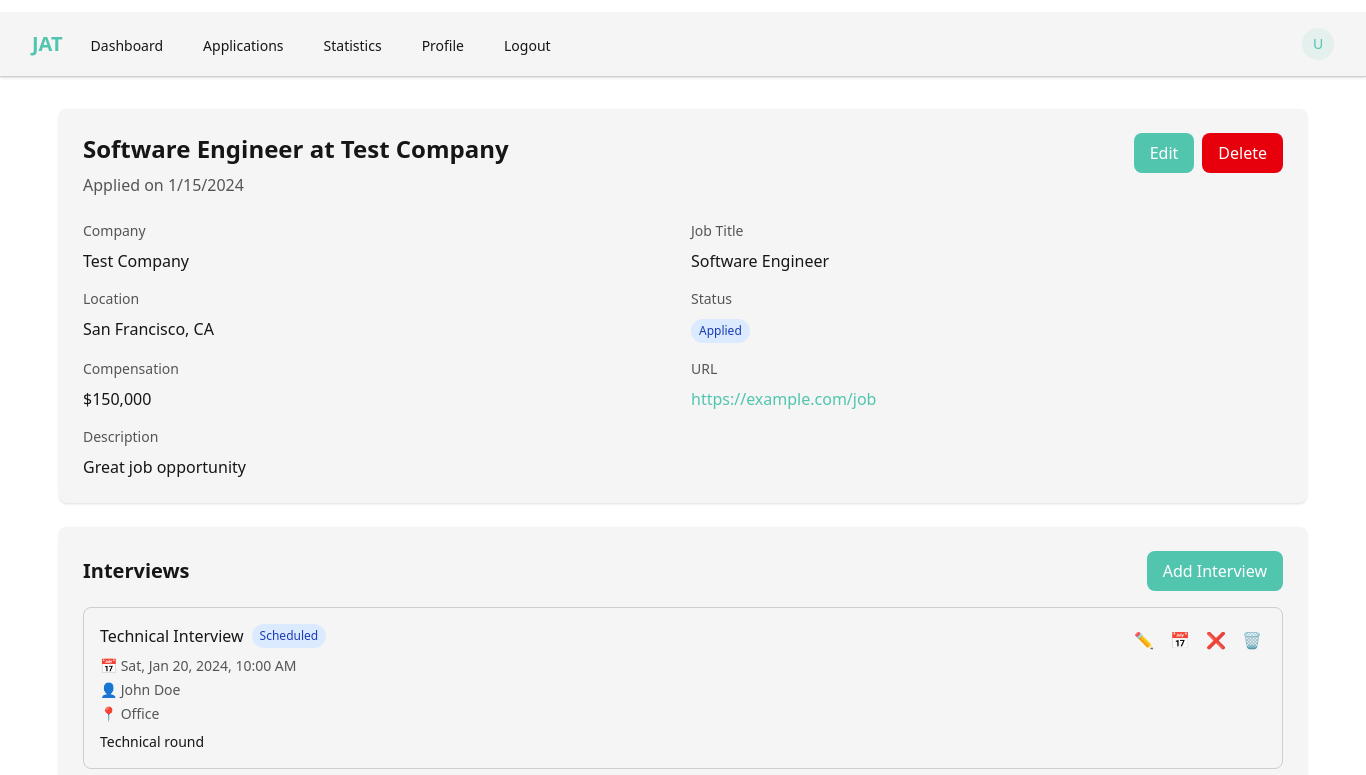
Test: ApplicationDetail Component › Edit Application › should enable edit mode when edit button is clicked
Expected: the text "Software Engineer" is shown, x1=691 y1=250 x2=829 y2=272
Click the button "Edit": [1164, 153] box x1=1134 y1=133 x2=1194 y2=173
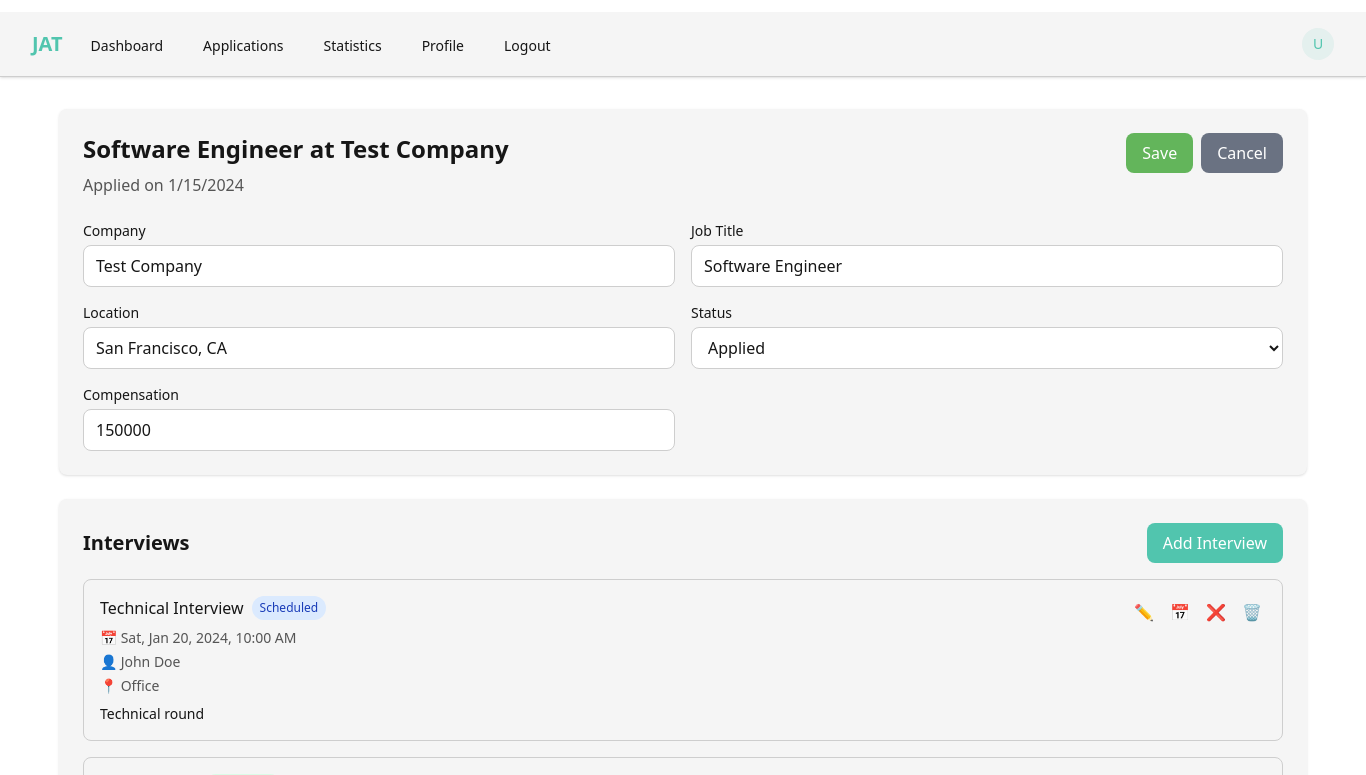
Expected: the field showing "Software Engineer" below "Job Title" is shown, x1=691 y1=245 x2=1283 y2=287
Expected: the button "Cancel" is shown, x1=1201 y1=133 x2=1283 y2=173
